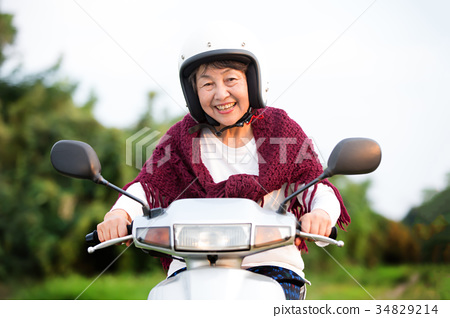helmet: (175, 24, 280, 99)
